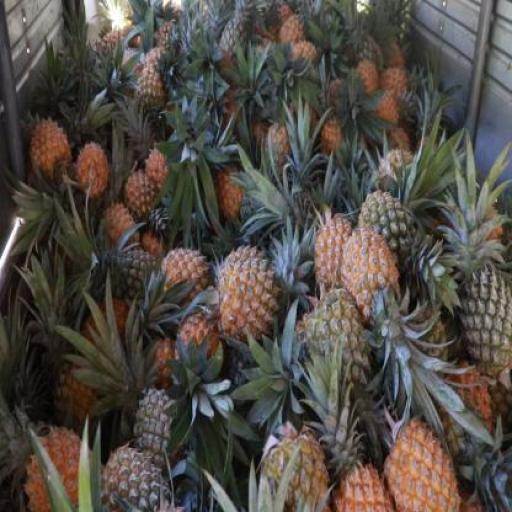------------------------------: (302, 288, 369, 388), (358, 191, 422, 290), (55, 360, 106, 435), (133, 70, 165, 129)
Pineapple - v8 v1: (382, 423, 461, 511), (22, 424, 97, 511), (342, 231, 404, 333), (214, 246, 278, 340), (312, 216, 361, 305), (174, 312, 222, 392), (162, 249, 205, 305), (29, 119, 68, 180), (130, 171, 168, 218), (76, 141, 106, 200)
